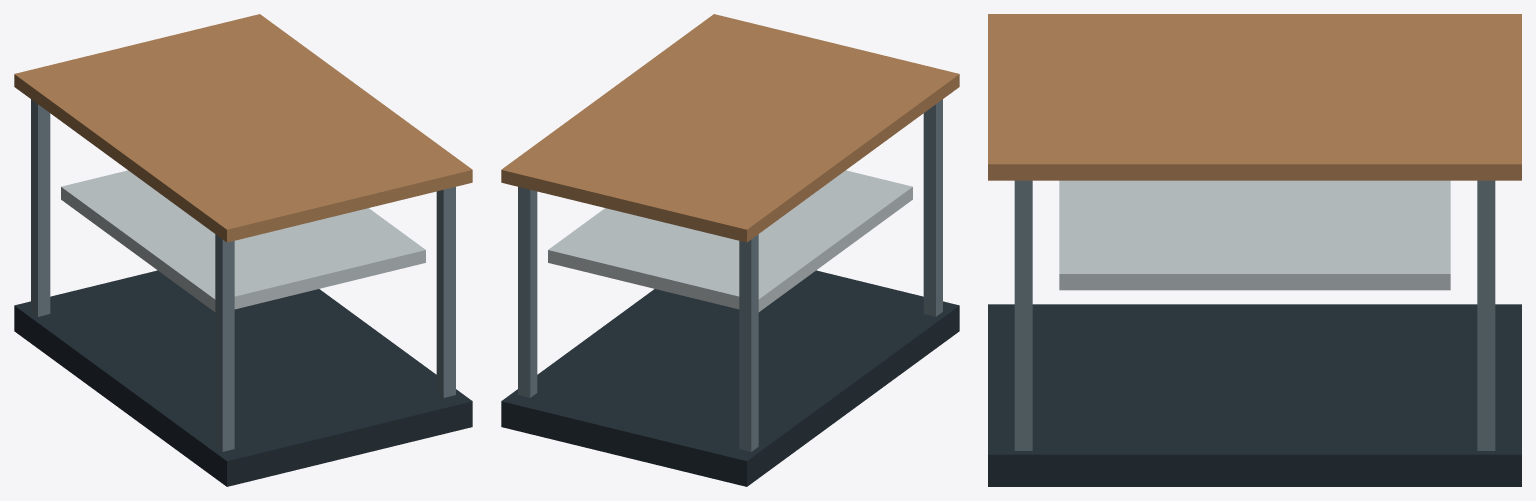
File: dummy-crate-loader.glb
3 views of the same model, side by side, from view 1: azimuth 30°, elevation 25°; view 2: azimuth 150°, elevation 25°; view 3: azimuth 270°, elevation 25° (orthographic). The views are drawn at different scales.
Bounding box in the file's own units: 2 × 2 × 3.
